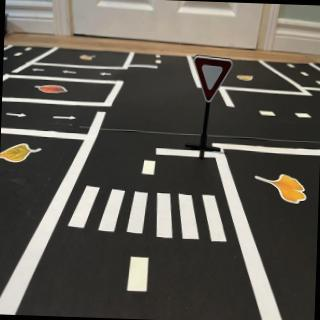road_crosswalk: (62, 180, 235, 246)
road_oneway: (50, 112, 78, 123), (4, 110, 28, 120), (32, 66, 48, 75), (64, 70, 79, 78), (99, 71, 114, 79)
sign_yield: (197, 57, 234, 105)
